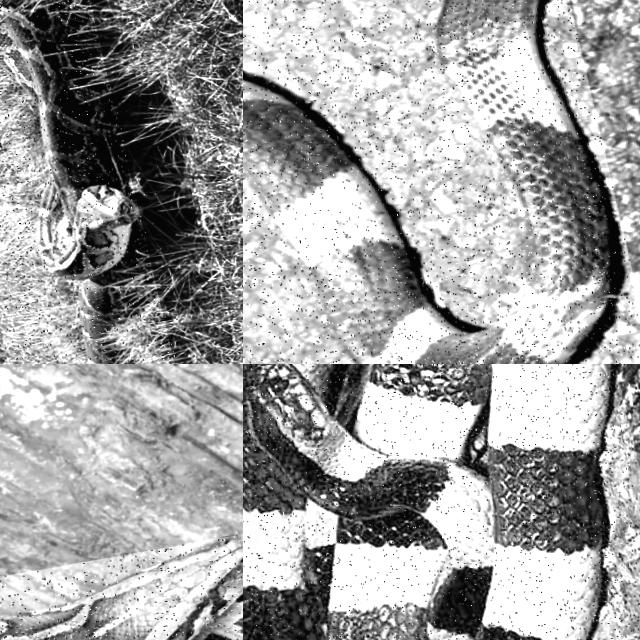Bungarus candidus: (243, 0, 611, 363)
Bungarus fasciatus: (243, 364, 611, 639)
Python bivittatus: (0, 0, 142, 363), (0, 537, 242, 639)
snake: (243, 0, 611, 363), (243, 364, 611, 639), (0, 0, 142, 363), (0, 537, 242, 639)
